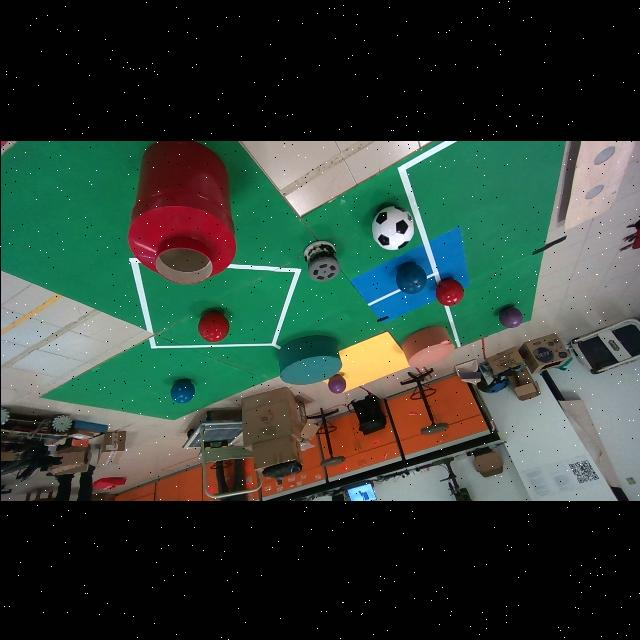B: (394, 261, 426, 293), (169, 378, 193, 402)
P: (499, 306, 522, 327), (327, 374, 345, 392)
R: (197, 311, 228, 341), (435, 277, 464, 306)
